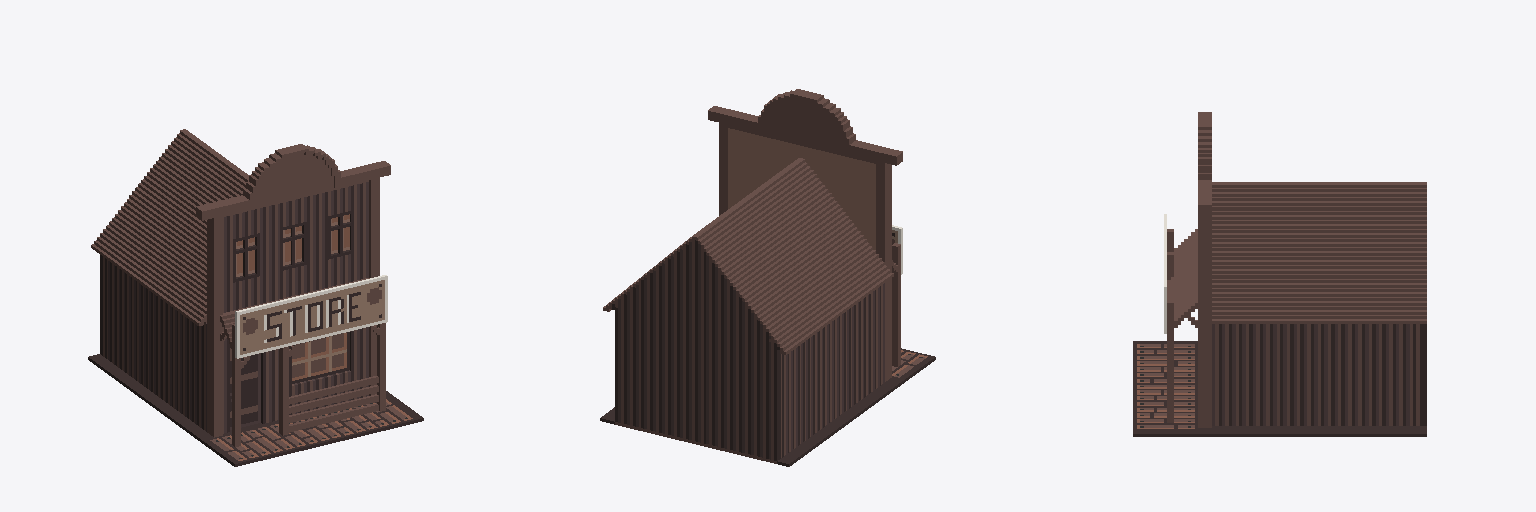
3 views of the same model, side by side, from view 1: azimuth 30°, elevation 25°; view 2: azimuth 150°, elevation 25°; view 3: azimuth 270°, elevation 25° (orthographic).
Visible parts, largest first — view 1: default; view 2: default; view 3: default.
Part boxes in pixels (bbox=[...]): default: bbox=[88, 129, 423, 466]; default: bbox=[600, 89, 935, 466]; default: bbox=[1133, 112, 1426, 436].
Size of the model in its own units: 64 by 87 by 86.
1 materials, 1 textured.